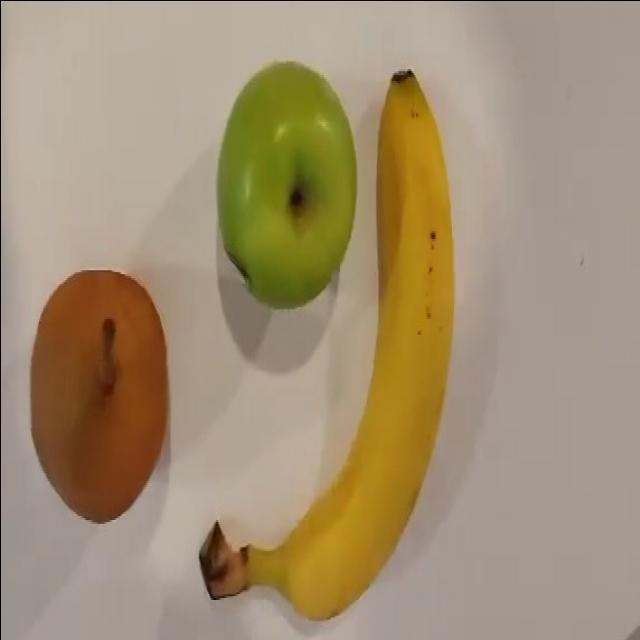Apple: (29, 268, 169, 523), (216, 59, 357, 309)
Banana: (198, 67, 455, 622)
